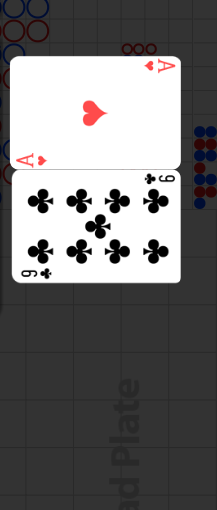9C: (20, 266, 55, 280)
AH: (141, 58, 176, 75)
